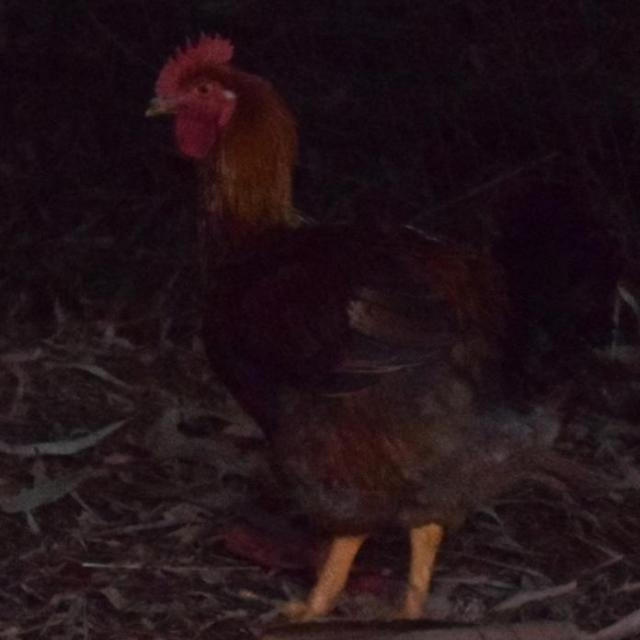cook: (153, 38, 632, 619)
